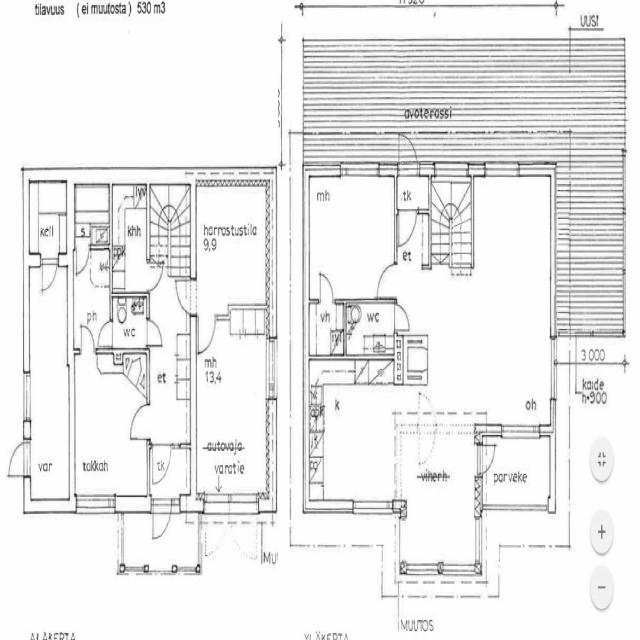door: (153, 498, 172, 548), (399, 128, 417, 176), (172, 280, 196, 314), (6, 443, 29, 476), (152, 444, 170, 482), (398, 210, 416, 248), (129, 406, 149, 440), (198, 315, 216, 352), (377, 265, 397, 297), (478, 446, 498, 474), (42, 259, 57, 292), (147, 263, 164, 291), (146, 320, 162, 346), (394, 305, 410, 330), (320, 273, 333, 303), (81, 325, 94, 354), (97, 321, 112, 346), (77, 246, 89, 273)
